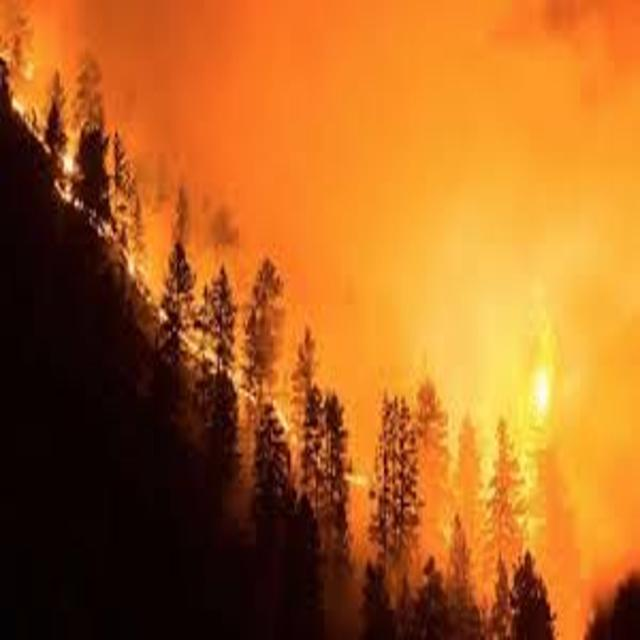Fire: (85, 188, 248, 394), (249, 373, 372, 496), (0, 39, 85, 215), (501, 295, 576, 450)
Smoke: (86, 0, 640, 189), (248, 188, 496, 370), (579, 295, 640, 567), (497, 189, 640, 294)
